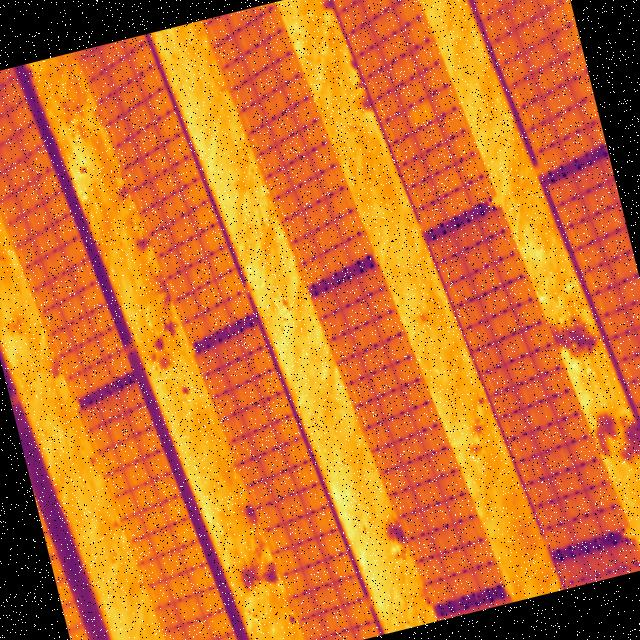Hotspot: (407, 96, 434, 125)
